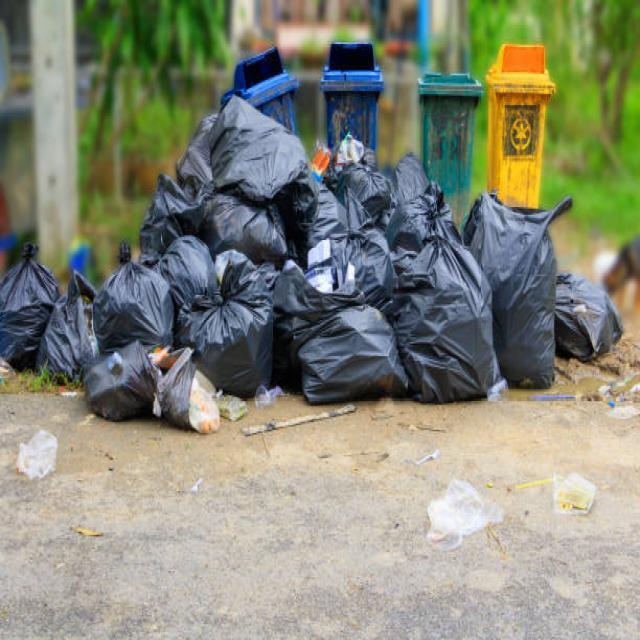garbage: (14, 88, 636, 441)
